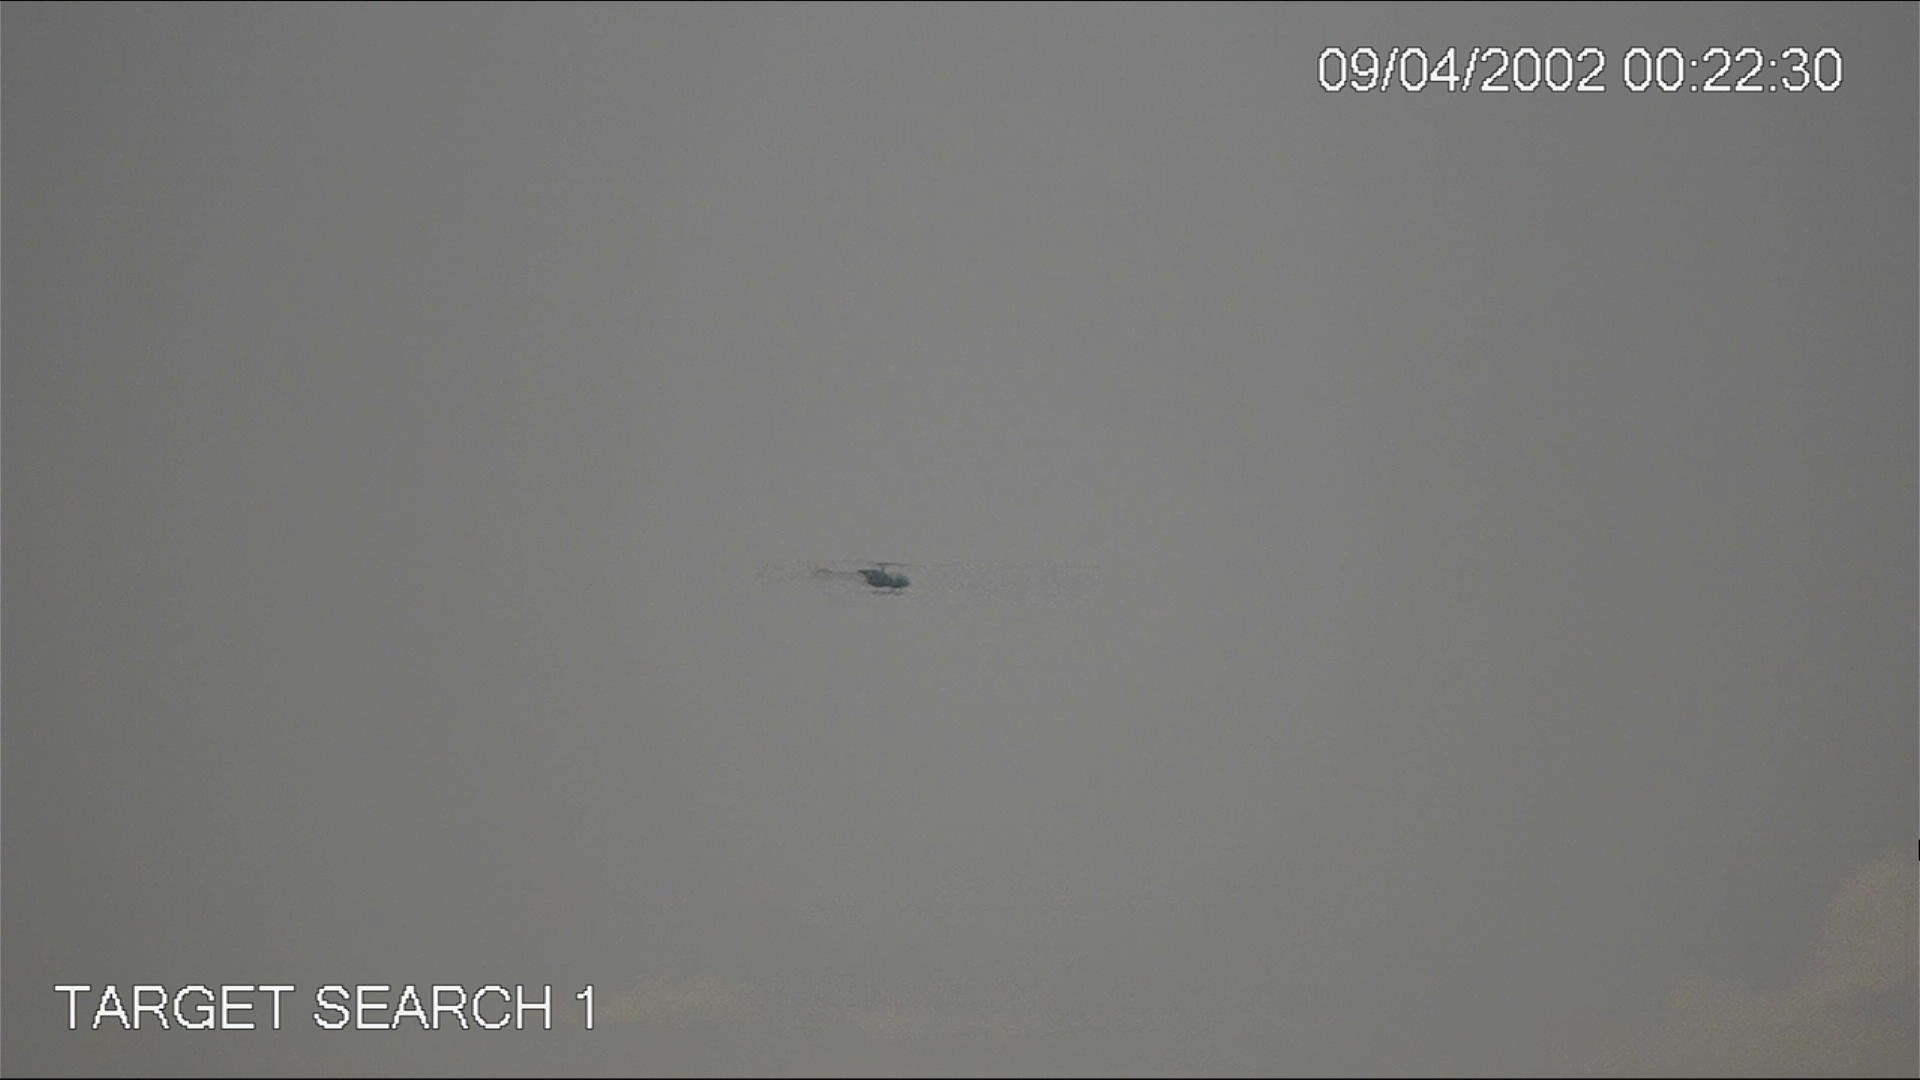SU_30: (811, 553, 918, 596)
